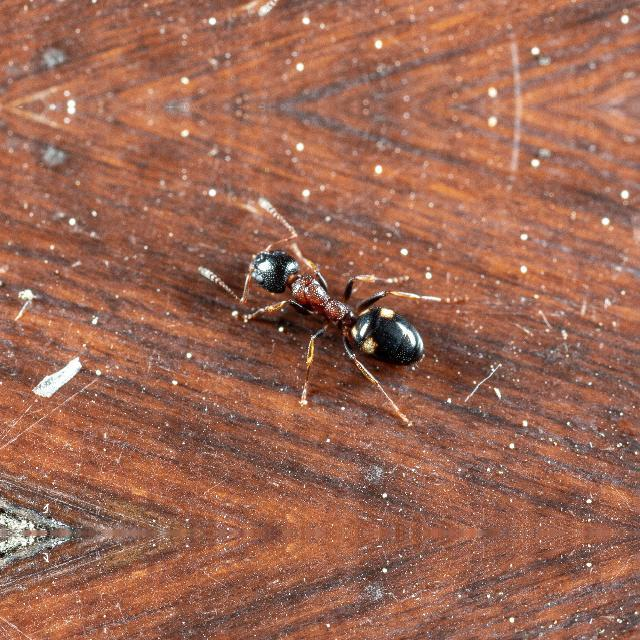Dolichoderus: (200, 210, 488, 390)
